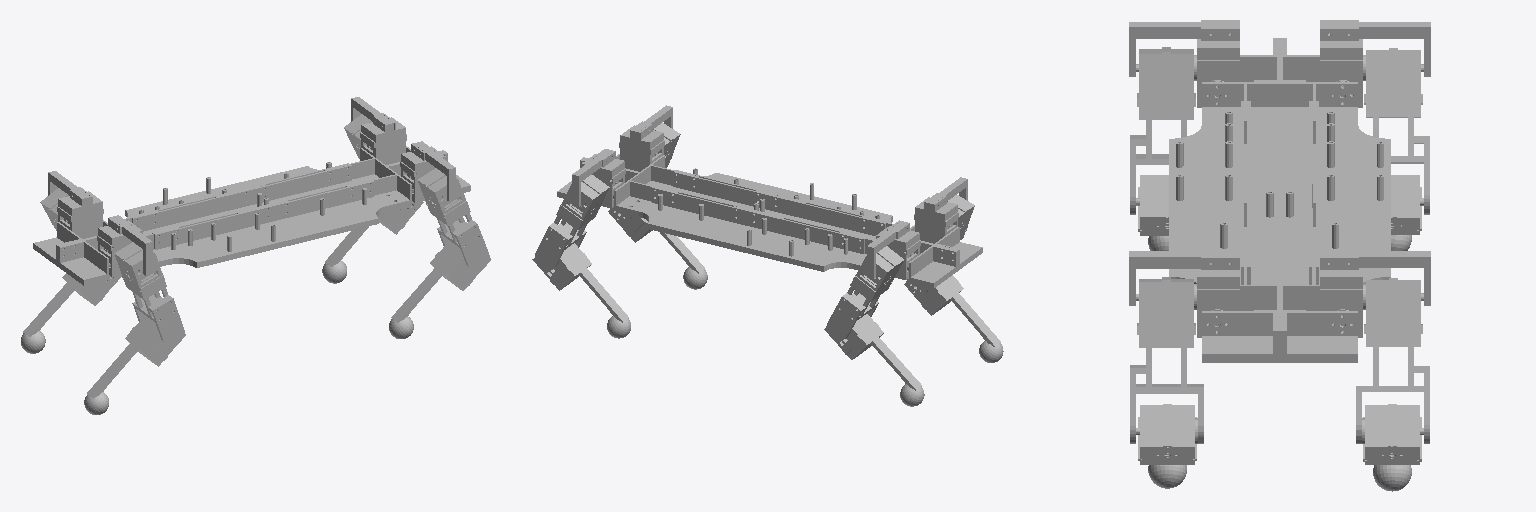
The robot description file, URDF, robot "full_body.SLDASM":
<?xml version="1.0" encoding="utf-8"?>
<!-- This URDF was automatically created by SolidWorks to URDF Exporter! Originally created by [author] ([email redacted]) 
     Commit Version: 1.6.0-4-g7f85cfe  Build Version: 1.6.7995.38578
     For more information, please see http://wiki.ros.org/sw_urdf_exporter -->
<robot
  name="full_body.SLDASM">
  <link
    name="base_link">
    <inertial>
      <origin
        xyz="-0.0035972 1.0066 -0.0090293"
        rpy="0 0 0" />
      <mass
        value="0.65516" />
      <inertia
        ixx="0.00044925"
        ixy="-5.9638E-06"
        ixz="-8.843E-20"
        iyy="0.0013524"
        iyz="1.0103E-20"
        izz="0.00095612" />
    </inertial>
    <visual>
      <origin
        xyz="0 0 0"
        rpy="0 0 0" />
      <geometry>
        <mesh
          filename="package://full_body.SLDASM/meshes/base_link.STL" />
      </geometry>
      <material
        name="">
        <color
          rgba="0.75294 0.75294 0.75294 1" />
      </material>
    </visual>
    <collision>
      <origin
        xyz="0 0 0"
        rpy="0 0 0" />
      <geometry>
        <mesh
          filename="package://full_body.SLDASM/meshes/base_link.STL" />
      </geometry>
    </collision>
  </link>
  <link
    name="fl_shoulder">
    <inertial>
      <origin
        xyz="-0.016723 -0.022627 0.0030898"
        rpy="0 0 0" />
      <mass
        value="0.077697" />
      <inertia
        ixx="2.0332E-05"
        ixy="-3.293E-07"
        ixz="-7.9887E-07"
        iyy="2.7953E-05"
        iyz="-3.3855E-08"
        izz="2.6008E-05" />
    </inertial>
    <visual>
      <origin
        xyz="0 0 0"
        rpy="0 0 0" />
      <geometry>
        <mesh
          filename="package://full_body.SLDASM/meshes/fl_shoulder.STL" />
      </geometry>
      <material
        name="">
        <color
          rgba="0.75294 0.75294 0.75294 1" />
      </material>
    </visual>
    <collision>
      <origin
        xyz="0 0 0"
        rpy="0 0 0" />
      <geometry>
        <mesh
          filename="package://full_body.SLDASM/meshes/fl_shoulder.STL" />
      </geometry>
    </collision>
  </link>
  <joint
    name="fl_shoulder_joint"
    type="revolute">
    <origin
      xyz="-0.18809 -0.038982 1.0175"
      rpy="1.5708 1.5708 0" />
    <parent
      link="base_link" />
    <child
      link="fl_shoulder" />
    <axis
      xyz="0 1 0" />
    <limit
      lower="0"
      upper="0"
      effort="0"
      velocity="0" />
  </joint>
  <link
    name="fl_thigh">
    <inertial>
      <origin
        xyz="-0.030287 -0.029375 -0.0015653"
        rpy="0 0 0" />
      <mass
        value="0.091652" />
      <inertia
        ixx="2.107E-05"
        ixy="7.3524E-06"
        ixz="3.0123E-06"
        iyy="6.1178E-05"
        iyz="-4.3644E-07"
        izz="7.0035E-05" />
    </inertial>
    <visual>
      <origin
        xyz="0 0 0"
        rpy="0 0 0" />
      <geometry>
        <mesh
          filename="package://full_body.SLDASM/meshes/fl_thigh.STL" />
      </geometry>
      <material
        name="">
        <color
          rgba="0.75294 0.75294 0.75294 1" />
      </material>
    </visual>
    <collision>
      <origin
        xyz="0 0 0"
        rpy="0 0 0" />
      <geometry>
        <mesh
          filename="package://full_body.SLDASM/meshes/fl_thigh.STL" />
      </geometry>
    </collision>
  </link>
  <joint
    name="fl_upper_thigh_joint"
    type="revolute">
    <origin
      xyz="-0.011125 -0.023 0.0101"
      rpy="-1.5708 0 -2.8135" />
    <parent
      link="fl_shoulder" />
    <child
      link="fl_thigh" />
    <axis
      xyz="0 1 0" />
    <limit
      lower="0"
      upper="0"
      effort="0"
      velocity="0" />
  </joint>
  <link
    name="fl_calf">
    <inertial>
      <origin
        xyz="-0.034445 -0.022687 0.0023738"
        rpy="0 0 0" />
      <mass
        value="0.086446" />
      <inertia
        ixx="1.4878E-05"
        ixy="-4.2492E-07"
        ixz="-3.5948E-06"
        iyy="0.00011987"
        iyz="3.3312E-08"
        izz="0.00012457" />
    </inertial>
    <visual>
      <origin
        xyz="0 0 0"
        rpy="0 0 0" />
      <geometry>
        <mesh
          filename="package://full_body.SLDASM/meshes/fl_calf.STL" />
      </geometry>
      <material
        name="">
        <color
          rgba="0.75294 0.75294 0.75294 1" />
      </material>
    </visual>
    <collision>
      <origin
        xyz="0 0 0"
        rpy="0 0 0" />
      <geometry>
        <mesh
          filename="package://full_body.SLDASM/meshes/fl_calf.STL" />
      </geometry>
    </collision>
  </link>
  <joint
    name="fl_lower_thigh_joint"
    type="revolute">
    <origin
      xyz="-0.10288 -0.005 -0.0025"
      rpy="0 1.1819 0" />
    <parent
      link="fl_thigh" />
    <child
      link="fl_calf" />
    <axis
      xyz="0 1 0" />
    <limit
      lower="0"
      upper="0"
      effort="0"
      velocity="0" />
  </joint>
  <link
    name="fr_shoulder">
    <inertial>
      <origin
        xyz="-0.0167231448134231 -0.0226528435011913 -0.00308978788806342"
        rpy="0 0 0" />
      <mass
        value="0.0776965557993421" />
      <inertia
        ixx="2.03318316394635E-05"
        ixy="-3.29296835160004E-07"
        ixz="7.98874235426894E-07"
        iyy="2.7952676508177E-05"
        iyz="3.38551705773347E-08"
        izz="2.60079742805002E-05" />
    </inertial>
    <visual>
      <origin
        xyz="0 0 0"
        rpy="0 0 0" />
      <geometry>
        <mesh
          filename="package://full_body.SLDASM/meshes/fr_shoulder.STL" />
      </geometry>
      <material
        name="">
        <color
          rgba="0.752941176470588 0.752941176470588 0.752941176470588 1" />
      </material>
    </visual>
    <collision>
      <origin
        xyz="0 0 0"
        rpy="0 0 0" />
      <geometry>
        <mesh
          filename="package://full_body.SLDASM/meshes/fr_shoulder.STL" />
      </geometry>
    </collision>
  </link>
  <joint
    name="fr_shoulder_joint"
    type="revolute">
    <origin
      xyz="-0.18809 0.057018 1.0175"
      rpy="1.5708 1.5708 0" />
    <parent
      link="base_link" />
    <child
      link="fr_shoulder" />
    <axis
      xyz="0 1 0" />
    <limit
      lower="0"
      upper="0"
      effort="0"
      velocity="0" />
  </joint>
  <link
    name="fr_thigh">
    <inertial>
      <origin
        xyz="-0.0302869631953178 -0.0293750339010572 0.00156528908759646"
        rpy="0 0 0" />
      <mass
        value="0.0916515025957821" />
      <inertia
        ixx="2.10701031177543E-05"
        ixy="7.35240616345423E-06"
        ixz="-3.01230962502584E-06"
        iyy="6.11778473451461E-05"
        iyz="4.36435773829826E-07"
        izz="7.00348282018168E-05" />
    </inertial>
    <visual>
      <origin
        xyz="0 0 0"
        rpy="0 0 0" />
      <geometry>
        <mesh
          filename="package://full_body.SLDASM/meshes/fr_thigh.STL" />
      </geometry>
      <material
        name="">
        <color
          rgba="0.752941176470588 0.752941176470588 0.752941176470588 1" />
      </material>
    </visual>
    <collision>
      <origin
        xyz="0 0 0"
        rpy="0 0 0" />
      <geometry>
        <mesh
          filename="package://full_body.SLDASM/meshes/fr_thigh.STL" />
      </geometry>
    </collision>
  </link>
  <joint
    name="fr_upper_thigh_joint"
    type="revolute">
    <origin
      xyz="-0.011125 -0.0232 -0.0101"
      rpy="1.5708 0 -2.6666" />
    <parent
      link="fr_shoulder" />
    <child
      link="fr_thigh" />
    <axis
      xyz="0 1 0" />
    <limit
      lower="0"
      upper="0"
      effort="0"
      velocity="0" />
  </joint>
  <link
    name="fr_calf">
    <inertial>
      <origin
        xyz="-0.0344454986113377 -0.0226869436157242 -0.00237381613499421"
        rpy="0 0 0" />
      <mass
        value="0.0864459183615108" />
      <inertia
        ixx="1.48777935604042E-05"
        ixy="-4.24915350086851E-07"
        ixz="3.59480723019534E-06"
        iyy="0.000119866124078708"
        iyz="-3.33117693593303E-08"
        izz="0.000124573461348699" />
    </inertial>
    <visual>
      <origin
        xyz="0 0 0"
        rpy="0 0 0" />
      <geometry>
        <mesh
          filename="package://full_body.SLDASM/meshes/fr_calf.STL" />
      </geometry>
      <material
        name="">
        <color
          rgba="0.752941176470588 0.752941176470588 0.752941176470588 1" />
      </material>
    </visual>
    <collision>
      <origin
        xyz="0 0 0"
        rpy="0 0 0" />
      <geometry>
        <mesh
          filename="package://full_body.SLDASM/meshes/fr_calf.STL" />
      </geometry>
    </collision>
  </link>
  <joint
    name="fr_lower_thigh_joint"
    type="revolute">
    <origin
      xyz="-0.10287 -0.005 0.0025"
      rpy="0 -1.3489 0" />
    <parent
      link="fr_thigh" />
    <child
      link="fr_calf" />
    <axis
      xyz="0 1 0" />
    <limit
      lower="0"
      upper="0"
      effort="0"
      velocity="0" />
  </joint>
  <link
    name="bl_shoulder">
    <inertial>
      <origin
        xyz="-0.0167231448134231 0.0229731195760771 0.0030897878880634"
        rpy="0 0 0" />
      <mass
        value="0.0776965557993421" />
      <inertia
        ixx="2.03318316394636E-05"
        ixy="-3.29296835160003E-07"
        ixz="-7.98874235426899E-07"
        iyy="2.7952676508177E-05"
        iyz="-3.38551705773356E-08"
        izz="2.60079742805002E-05" />
    </inertial>
    <visual>
      <origin
        xyz="0 0 0"
        rpy="0 0 0" />
      <geometry>
        <mesh
          filename="package://full_body.SLDASM/meshes/bl_shoulder.STL" />
      </geometry>
      <material
        name="">
        <color
          rgba="0.752941176470588 0.752941176470588 0.752941176470588 1" />
      </material>
    </visual>
    <collision>
      <origin
        xyz="0 0 0"
        rpy="0 0 0" />
      <geometry>
        <mesh
          filename="package://full_body.SLDASM/meshes/bl_shoulder.STL" />
      </geometry>
    </collision>
  </link>
  <joint
    name="bl_shoulder_joint"
    type="revolute">
    <origin
      xyz="0.18231 -0.038932 1.0175"
      rpy="1.5708 1.5708 0" />
    <parent
      link="base_link" />
    <child
      link="bl_shoulder" />
    <axis
      xyz="0 1 0" />
    <limit
      lower="0"
      upper="0"
      effort="0"
      velocity="0" />
  </joint>
  <link
    name="bl_thigh">
    <inertial>
      <origin
        xyz="-0.0302869631953189 -0.0293750339010568 -0.00156528908759967"
        rpy="0 0 0" />
      <mass
        value="0.0916515025957822" />
      <inertia
        ixx="2.10701031177544E-05"
        ixy="7.35240616345429E-06"
        ixz="3.01230962502562E-06"
        iyy="6.11778473451463E-05"
        iyz="-4.364357738298E-07"
        izz="7.0034828201817E-05" />
    </inertial>
    <visual>
      <origin
        xyz="0 0 0"
        rpy="0 0 0" />
      <geometry>
        <mesh
          filename="package://full_body.SLDASM/meshes/bl_thigh.STL" />
      </geometry>
      <material
        name="">
        <color
          rgba="0.752941176470588 0.752941176470588 0.752941176470588 1" />
      </material>
    </visual>
    <collision>
      <origin
        xyz="0 0 0"
        rpy="0 0 0" />
      <geometry>
        <mesh
          filename="package://full_body.SLDASM/meshes/bl_thigh.STL" />
      </geometry>
    </collision>
  </link>
  <joint
    name="bl_upper_thigh_joint"
    type="revolute">
    <origin
      xyz="-0.011125 0.0226 0.0101"
      rpy="-1.5708 0 -2.7858" />
    <parent
      link="bl_shoulder" />
    <child
      link="bl_thigh" />
    <axis
      xyz="0 1 0" />
    <limit
      lower="0"
      upper="0"
      effort="0"
      velocity="0" />
  </joint>
  <link
    name="bl_calf">
    <inertial>
      <origin
        xyz="-0.0344454986113197 -0.0226869436173797 0.00237381613502496"
        rpy="0 0 0" />
      <mass
        value="0.0864459183614932" />
      <inertia
        ixx="1.48777935604568E-05"
        ixy="-4.24915358065006E-07"
        ixz="-3.59480723015865E-06"
        iyy="0.000119866124078621"
        iyz="3.33117687506484E-08"
        izz="0.000124573461348588" />
    </inertial>
    <visual>
      <origin
        xyz="0 0 0"
        rpy="0 0 0" />
      <geometry>
        <mesh
          filename="package://full_body.SLDASM/meshes/bl_calf.STL" />
      </geometry>
      <material
        name="">
        <color
          rgba="0.752941176470588 0.752941176470588 0.752941176470588 1" />
      </material>
    </visual>
    <collision>
      <origin
        xyz="0 0 0"
        rpy="0 0 0" />
      <geometry>
        <mesh
          filename="package://full_body.SLDASM/meshes/bl_calf.STL" />
      </geometry>
    </collision>
  </link>
  <joint
    name="bl_lower_thigh_joint"
    type="revolute">
    <origin
      xyz="-0.10288 -0.005 -0.0025"
      rpy="0 1.2202 0" />
    <parent
      link="bl_thigh" />
    <child
      link="bl_calf" />
    <axis
      xyz="0 1 0" />
    <limit
      lower="0"
      upper="0"
      effort="0"
      velocity="0" />
  </joint>
  <link
    name="br_shoulder">
    <inertial>
      <origin
        xyz="-0.0167231448134226 0.0229471564988094 -0.00308978788806335"
        rpy="0 0 0" />
      <mass
        value="0.0776965557993419" />
      <inertia
        ixx="2.03318316394634E-05"
        ixy="-3.29296835160005E-07"
        ixz="7.98874235426894E-07"
        iyy="2.79526765081769E-05"
        iyz="3.3855170577341E-08"
        izz="2.60079742805001E-05" />
    </inertial>
    <visual>
      <origin
        xyz="0 0 0"
        rpy="0 0 0" />
      <geometry>
        <mesh
          filename="package://full_body.SLDASM/meshes/br_shoulder.STL" />
      </geometry>
      <material
        name="">
        <color
          rgba="0.752941176470588 0.752941176470588 0.752941176470588 1" />
      </material>
    </visual>
    <collision>
      <origin
        xyz="0 0 0"
        rpy="0 0 0" />
      <geometry>
        <mesh
          filename="package://full_body.SLDASM/meshes/br_shoulder.STL" />
      </geometry>
    </collision>
  </link>
  <joint
    name="br_shoulder_joint"
    type="revolute">
    <origin
      xyz="0.18231 0.057068 1.0175"
      rpy="1.5708 1.5708 0" />
    <parent
      link="base_link" />
    <child
      link="br_shoulder" />
    <axis
      xyz="0 1 0" />
    <limit
      lower="0"
      upper="0"
      effort="0"
      velocity="0" />
  </joint>
  <link
    name="br_thigh">
    <inertial>
      <origin
        xyz="-0.0302869631953187 -0.029375033901057 0.00156528908759812"
        rpy="0 0 0" />
      <mass
        value="0.0916515025957822" />
      <inertia
        ixx="2.10701031177544E-05"
        ixy="7.35240616345448E-06"
        ixz="-3.01230962502545E-06"
        iyy="6.11778473451461E-05"
        iyz="4.36435773829785E-07"
        izz="7.00348282018168E-05" />
    </inertial>
    <visual>
      <origin
        xyz="0 0 0"
        rpy="0 0 0" />
      <geometry>
        <mesh
          filename="package://full_body.SLDASM/meshes/br_thigh.STL" />
      </geometry>
      <material
        name="">
        <color
          rgba="0.752941176470588 0.752941176470588 0.752941176470588 1" />
      </material>
    </visual>
    <collision>
      <origin
        xyz="0 0 0"
        rpy="0 0 0" />
      <geometry>
        <mesh
          filename="package://full_body.SLDASM/meshes/br_thigh.STL" />
      </geometry>
    </collision>
  </link>
  <joint
    name="br_upper_thigh_joint"
    type="revolute">
    <origin
      xyz="-0.011125 0.0224 -0.0101"
      rpy="1.5708 0 -2.7093" />
    <parent
      link="br_shoulder" />
    <child
      link="br_thigh" />
    <axis
      xyz="0 1 0" />
    <limit
      lower="0"
      upper="0"
      effort="0"
      velocity="0" />
  </joint>
  <link
    name="br_calf">
    <inertial>
      <origin
        xyz="-0.0344454986112914 -0.0226869436157236 -0.00237381613508669"
        rpy="0 0 0" />
      <mass
        value="0.0864459183614647" />
      <inertia
        ixx="1.48777935605244E-05"
        ixy="-4.24915350084916E-07"
        ixz="3.59480723007676E-06"
        iyy="0.000119866124078475"
        iyz="-3.33117693615464E-08"
        izz="0.000124573461348339" />
    </inertial>
    <visual>
      <origin
        xyz="0 0 0"
        rpy="0 0 0" />
      <geometry>
        <mesh
          filename="package://full_body.SLDASM/meshes/br_calf.STL" />
      </geometry>
      <material
        name="">
        <color
          rgba="0.752941176470588 0.752941176470588 0.752941176470588 1" />
      </material>
    </visual>
    <collision>
      <origin
        xyz="0 0 0"
        rpy="0 0 0" />
      <geometry>
        <mesh
          filename="package://full_body.SLDASM/meshes/br_calf.STL" />
      </geometry>
    </collision>
  </link>
  <joint
    name="br_lower_thigh_joint"
    type="revolute">
    <origin
      xyz="-0.10288 -0.005 0.0025"
      rpy="0 -1.2782 0" />
    <parent
      link="br_thigh" />
    <child
      link="br_calf" />
    <axis
      xyz="0 1 0" />
    <limit
      lower="0"
      upper="0"
      effort="0"
      velocity="0" />
  </joint>
</robot>

--- Facts derived from the render (not from the file) ---
Views: 3 orthographic renders of the robot side by side, from view 1: azimuth 30°, elevation 25°; view 2: azimuth 150°, elevation 25°; view 3: azimuth 270°, elevation 25°.
Robot: full_body.SLDASM — 13 links, 12 joints (12 revolute); root link base_link; default pose: all joints at 0.
Links seen in each view (by area): view 1: base_link, fl_thigh, bl_thigh, fl_calf, bl_calf, br_shoulder, fr_shoulder, fl_shoulder, bl_shoulder, fr_calf, br_calf, br_thigh (+1 smaller); view 2: base_link, br_thigh, fr_thigh, br_calf, fr_calf, bl_shoulder, fl_shoulder, fl_calf, fr_shoulder, br_shoulder, bl_calf, fl_thigh (+1 smaller); view 3: base_link, bl_thigh, br_thigh, fl_thigh, fr_thigh, br_calf, bl_shoulder, fl_shoulder, fr_shoulder, bl_calf, br_shoulder, fl_calf (+1 smaller).
Link boxes in pixels (box(x1,y1,x2,y2)): base_link: box(33, 146, 470, 285); fl_thigh: box(114, 242, 184, 345); bl_thigh: box(418, 168, 489, 270); fl_calf: box(84, 315, 185, 414); bl_calf: box(389, 241, 490, 338); br_shoulder: box(351, 97, 406, 164); fr_shoulder: box(48, 171, 103, 238); fl_shoulder: box(97, 215, 152, 276); bl_shoulder: box(400, 141, 455, 202); fr_calf: box(21, 273, 121, 353); br_calf: box(322, 201, 423, 283); br_thigh: box(344, 114, 420, 213); base_link: box(557, 154, 982, 288); br_thigh: box(535, 175, 609, 270); fr_thigh: box(826, 246, 903, 340); br_calf: box(532, 243, 630, 338); fr_calf: box(824, 314, 924, 406); bl_shoulder: box(619, 105, 672, 171); fl_shoulder: box(914, 177, 967, 243); fl_calf: box(904, 275, 1003, 362); fr_shoulder: box(867, 220, 920, 279); br_shoulder: box(572, 149, 625, 208); bl_calf: box(608, 210, 707, 289); fl_thigh: box(906, 195, 974, 295); base_link: box(1169, 38, 1390, 362); bl_thigh: box(1130, 277, 1203, 443); br_thigh: box(1356, 278, 1429, 443); fl_thigh: box(1130, 47, 1196, 214); fr_thigh: box(1363, 48, 1429, 214); br_calf: box(1362, 404, 1421, 491); bl_shoulder: box(1129, 250, 1239, 337); fl_shoulder: box(1129, 20, 1239, 107); fr_shoulder: box(1320, 20, 1430, 107); bl_calf: box(1138, 404, 1197, 488); br_shoulder: box(1320, 250, 1430, 337); fl_calf: box(1138, 175, 1168, 250).
Size in the robot's own frame: 0.5527 by 0.231 by 0.2238 metres.
Meshes: 13 distinct files referenced, 13 mesh visuals loaded (13 binary STL).
